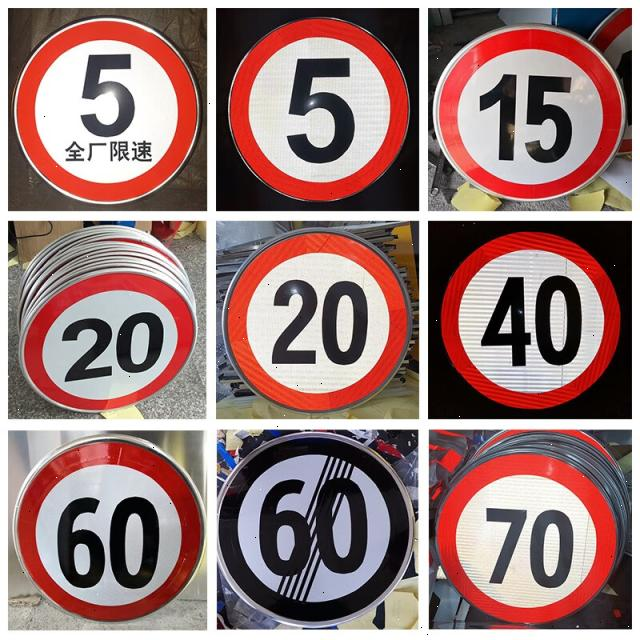speed limit 10: (227, 15, 410, 206)
speed limit 20: (434, 23, 630, 202), (223, 228, 407, 415), (18, 272, 197, 413)
speed limit 40: (443, 230, 616, 412)
speed limit 60: (13, 433, 206, 622)
speed limit 70: (433, 452, 620, 623)
